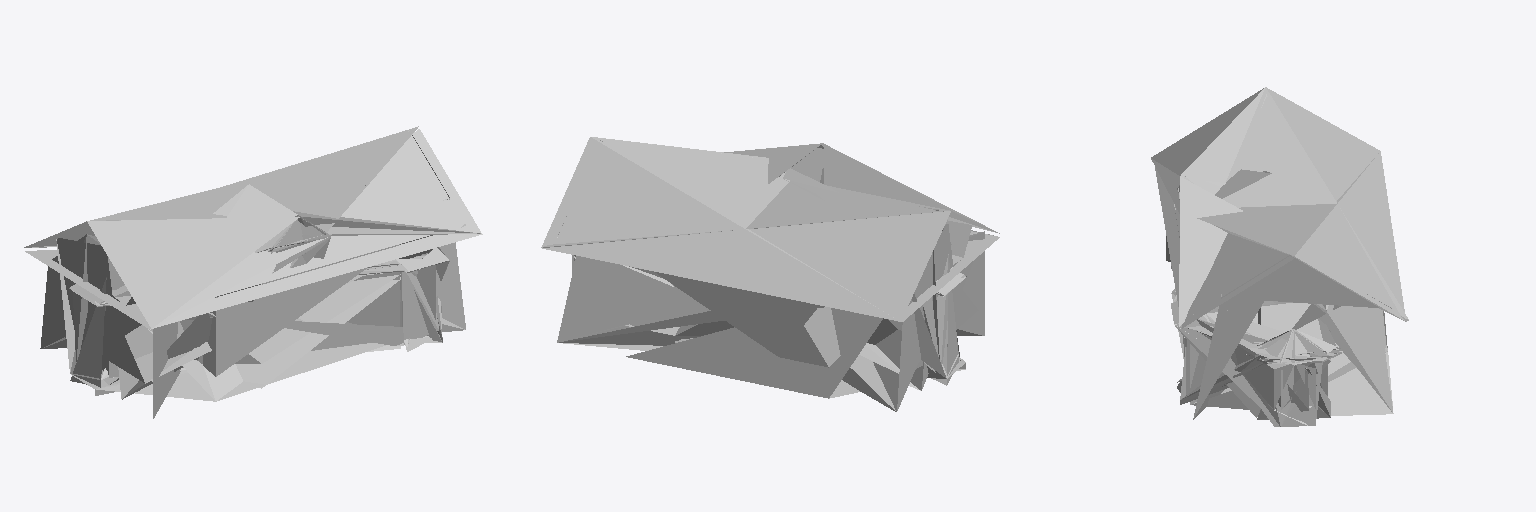
Rendered from cottage_obj.obj.
3 views of the same model, side by side, from view 1: azimuth 30°, elevation 25°; view 2: azimuth 150°, elevation 25°; view 3: azimuth 270°, elevation 25° (orthographic).
Visible parts, largest first — view 1: Cube_Cube.002; view 2: Cube_Cube.002; view 3: Cube_Cube.002.
Boxes of the visible parts, <box> form: Cube_Cube.002: <box>24,126,482,418</box>; Cube_Cube.002: <box>541,137,999,411</box>; Cube_Cube.002: <box>1151,87,1408,426</box>.
Bounding box in the file's own units: 33.93 × 14.67 × 20.74.